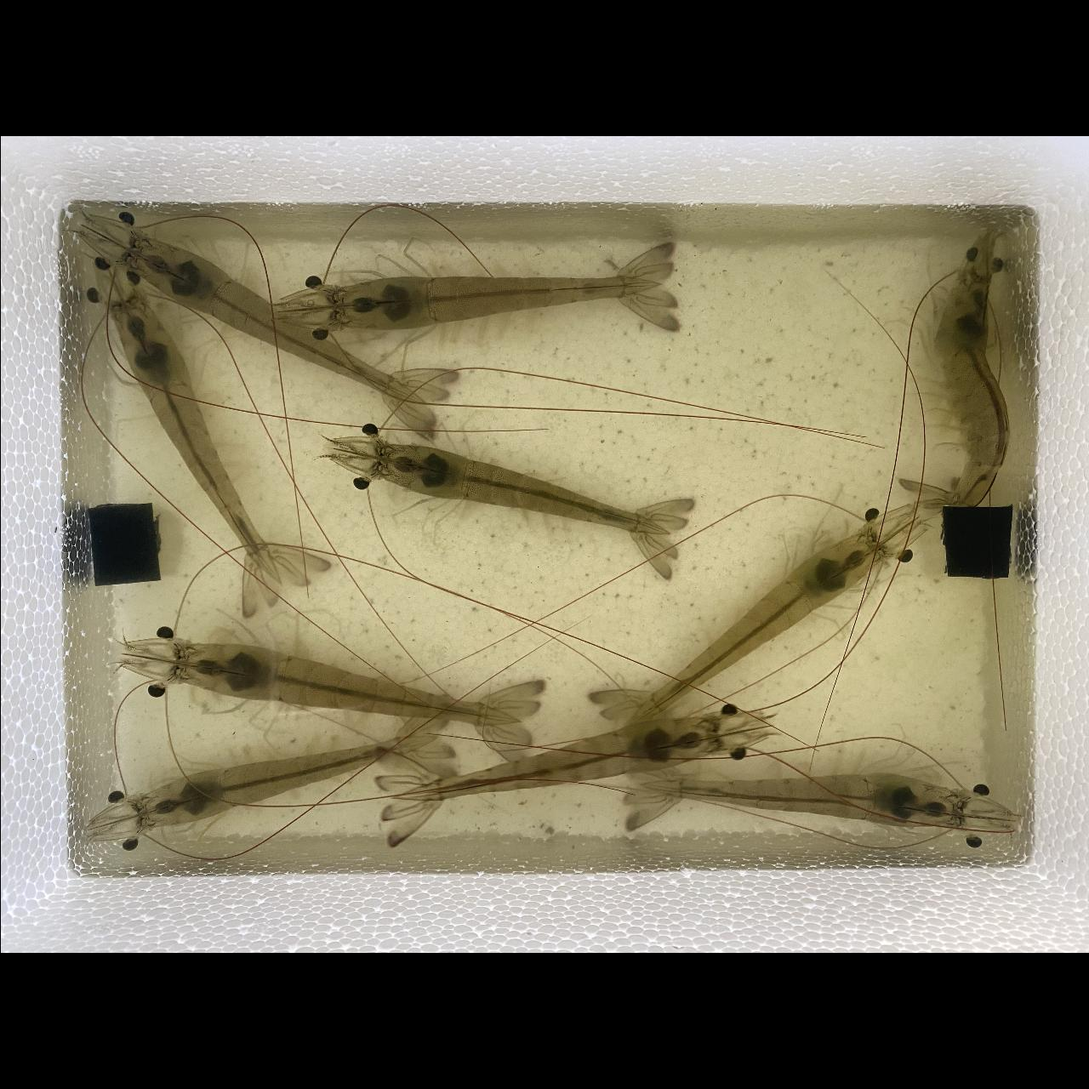box: (86, 504, 160, 586), (941, 505, 1012, 579)
side_shrimp: (929, 258, 1005, 533)
top_shrimp: (126, 237, 430, 405), (111, 297, 281, 584), (630, 534, 878, 724), (172, 642, 518, 725), (390, 716, 717, 802), (377, 445, 666, 536), (136, 738, 437, 825), (332, 275, 662, 328), (638, 776, 961, 827)
